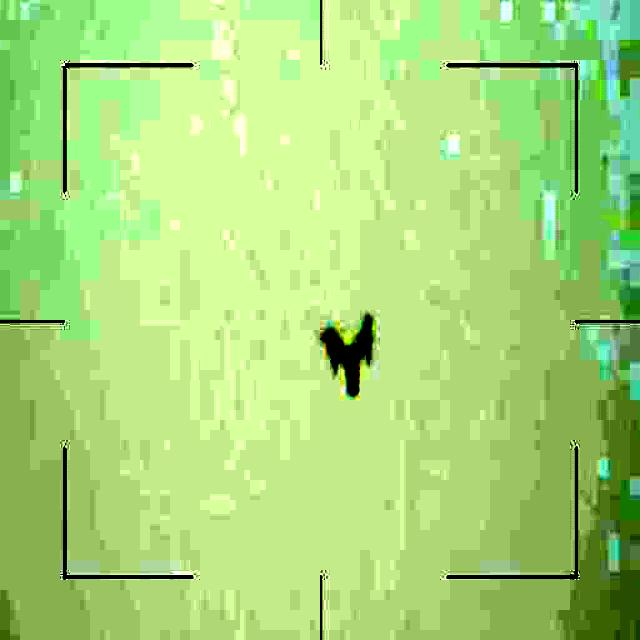bird: (320, 311, 382, 404)
